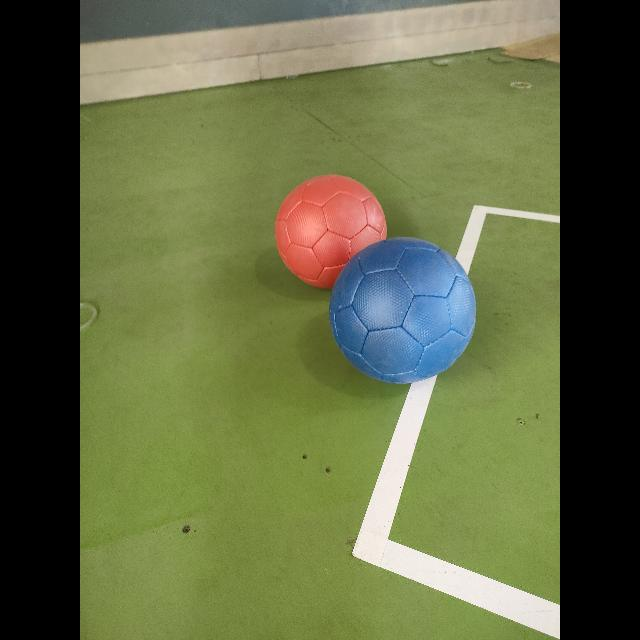B: (330, 238, 476, 382)
R: (276, 175, 386, 288)
